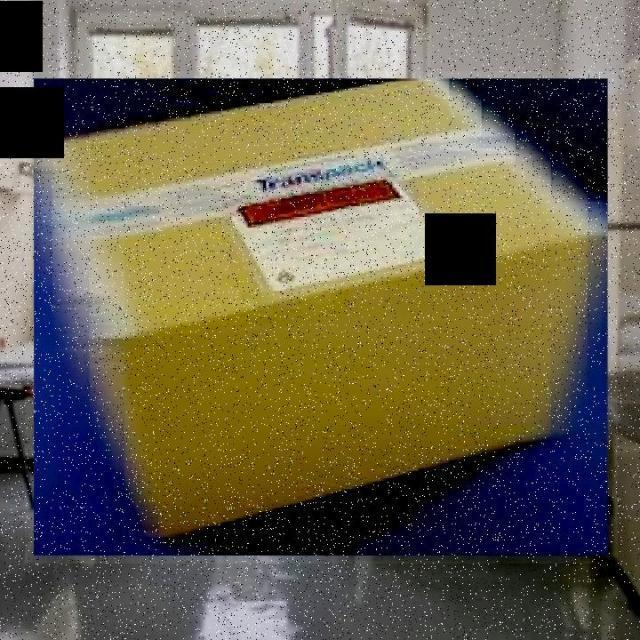box: (25, 72, 618, 564)
